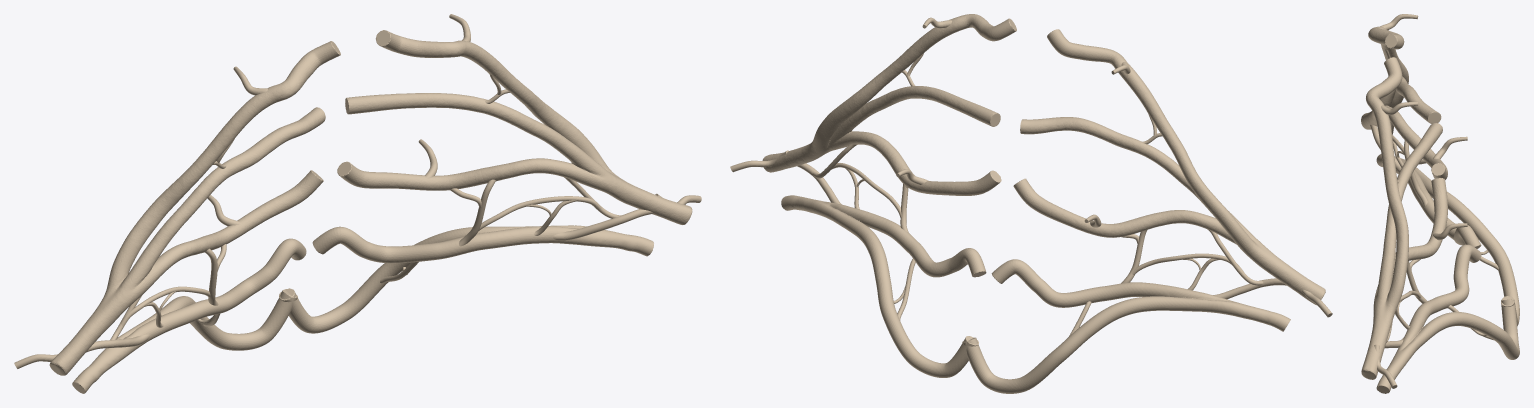
Rendered from SpinalNerves3.glb.
3 views of the same model, side by side, from view 1: azimuth 30°, elevation 25°; view 2: azimuth 150°, elevation 25°; view 3: azimuth 270°, elevation 25° (orthographic). The views are drawn at different scales.
Parts seen in each view (by area): view 1: Brachial Plexus; view 2: Brachial Plexus; view 3: Brachial Plexus.
Boxes of the visible parts, x1=… form: Brachial Plexus: x1=14, y1=14, x2=701, y2=393; Brachial Plexus: x1=730, y1=14, x2=1332, y2=393; Brachial Plexus: x1=1361, y1=14, x2=1519, y2=393.
Bounding box in the file's own units: 142 × 70.78 × 34.58.
